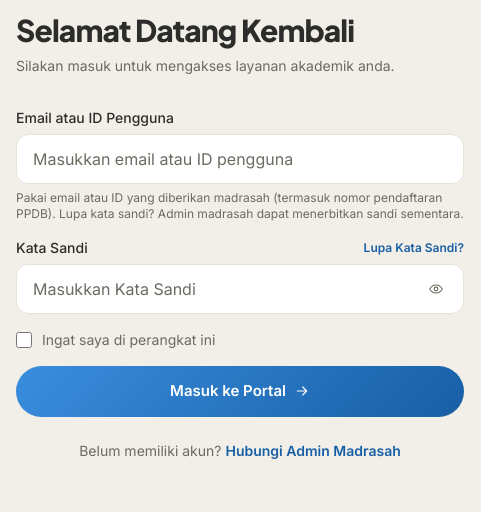
it: masuk PPDB lewat gerbang yang sama › email tidak pernah dicoba sebagai PPDB
Type "guru@madrasah.test" into the field labelled "Email atau ID Pengguna" at (240, 159), box [16,134,464,184]
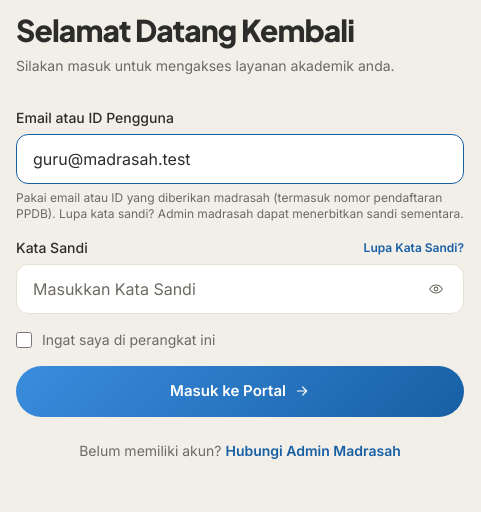
Type "salah" into the password field labelled "Kata Sandi" at (240, 289), box [16,264,464,314]
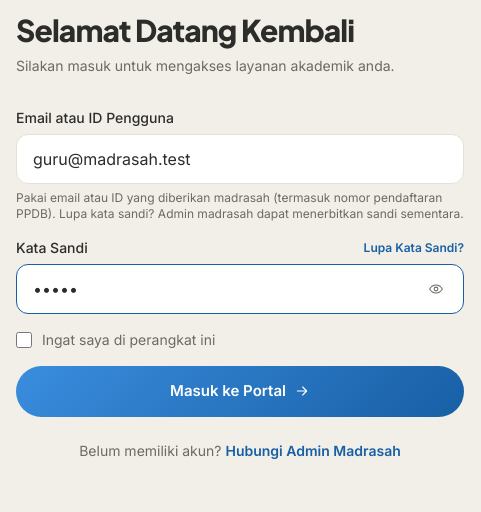
Click the button "Masuk ke Portal" at (240, 391), box [16,366,464,416]
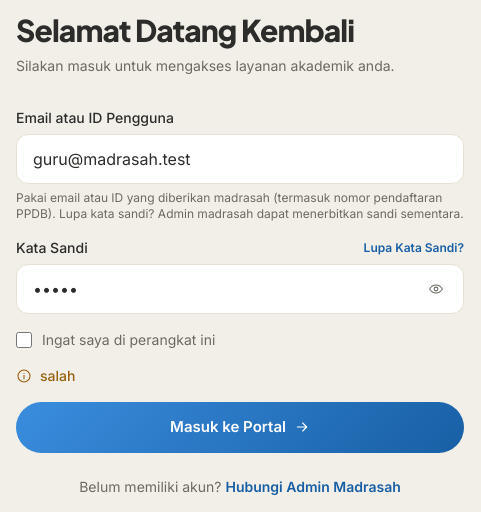
expect the message "salah" is shown: met, box [16,367,75,384]
